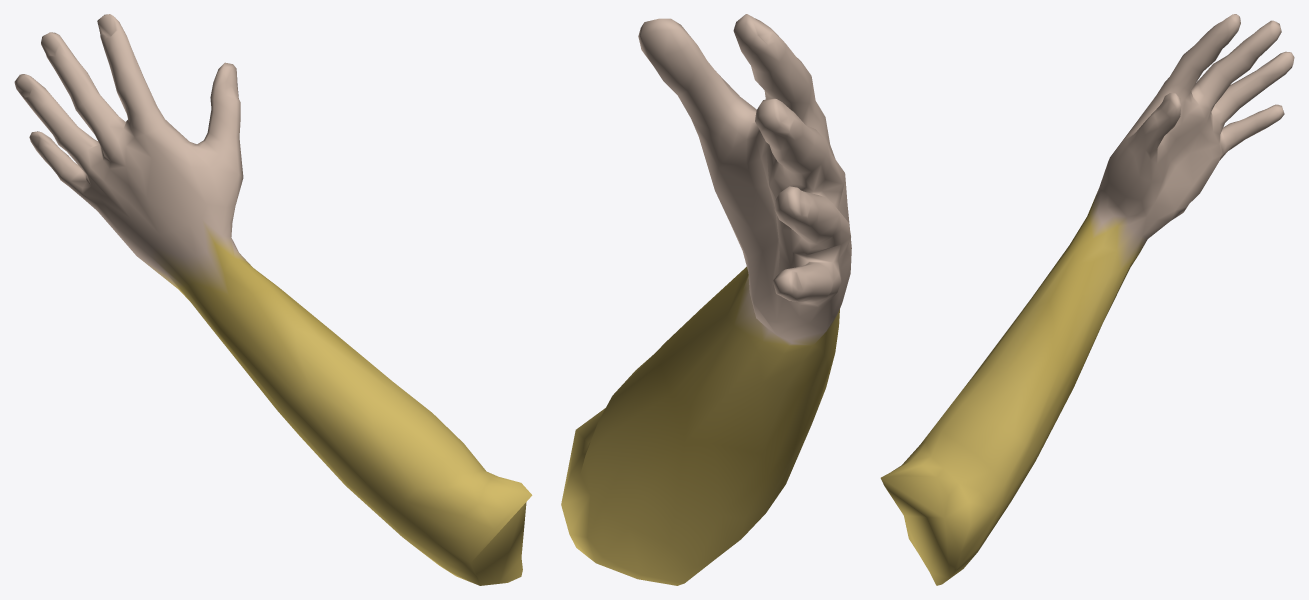
The model's file is teibi_left_lower_arm_authored.glb.
3 renders of one model, left to right at view 1: azimuth 30°, elevation 25°; view 2: azimuth 150°, elevation 25°; view 3: azimuth 270°, elevation 25°, orthographic. The views are drawn at different scales.
Visible parts, largest first — view 1: piece_leftarm_lowerarm_mesh; view 2: piece_leftarm_lowerarm_mesh; view 3: piece_leftarm_lowerarm_mesh.
Boxes of the visible parts, bbox=[...] form: piece_leftarm_lowerarm_mesh: bbox=[14, 14, 532, 585]; piece_leftarm_lowerarm_mesh: bbox=[561, 14, 851, 585]; piece_leftarm_lowerarm_mesh: bbox=[880, 14, 1294, 585].
Bounding box in the file's own units: 0.2607 × 0.3907 × 0.3174.
